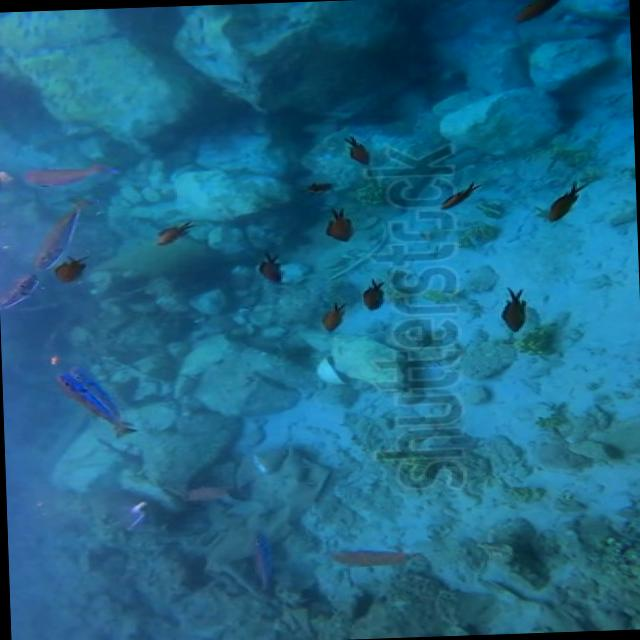Balon Baligi: (51, 370, 138, 434), (13, 154, 116, 197), (22, 205, 88, 265), (320, 541, 416, 572), (0, 275, 44, 315)
